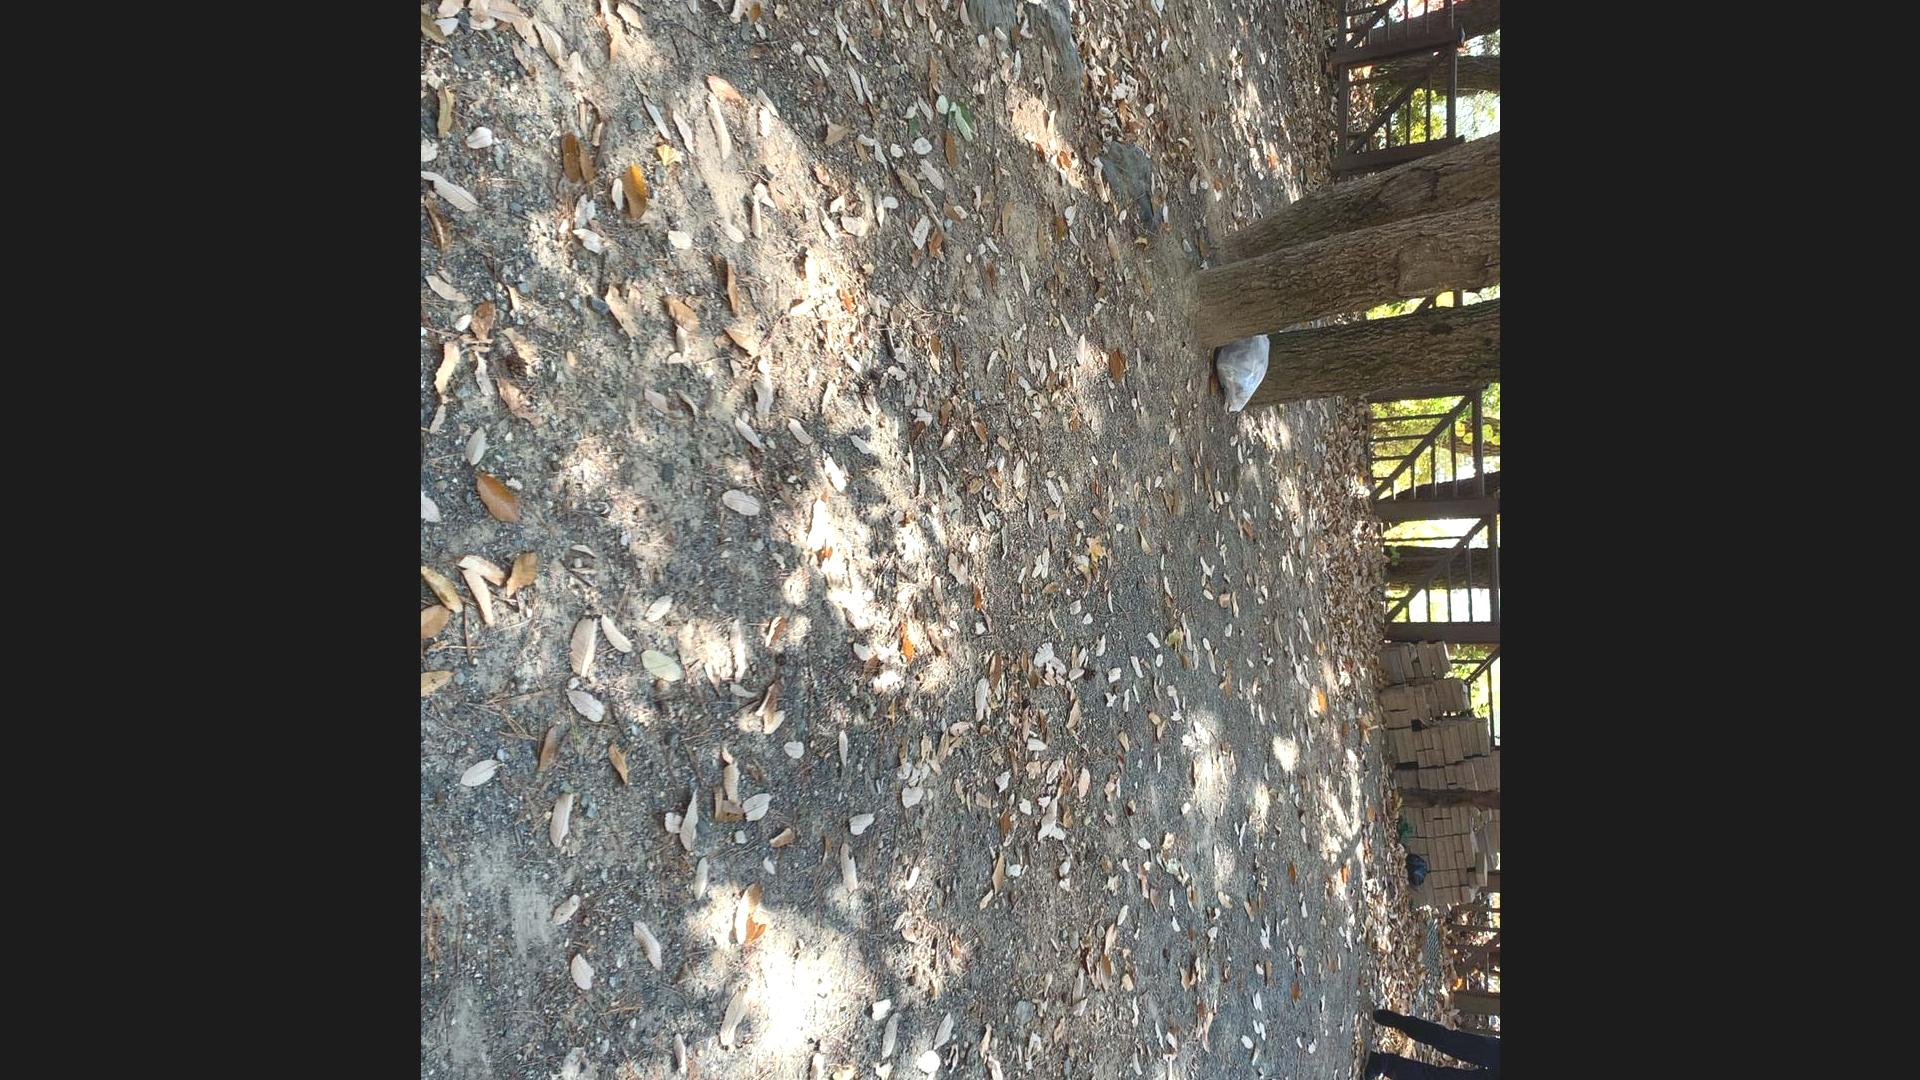white_bag: (1211, 326, 1275, 415)
